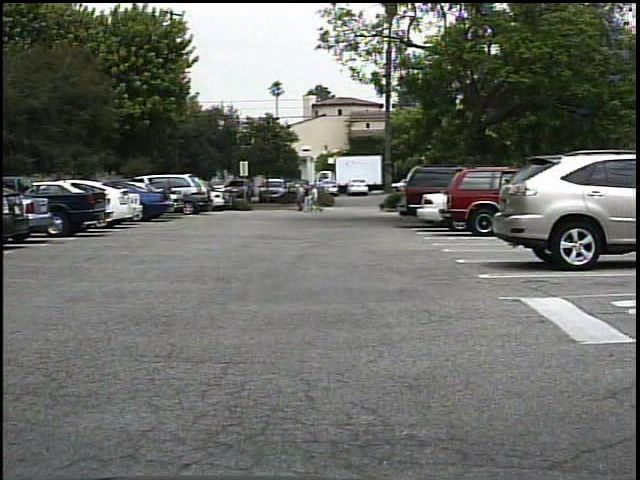person: (306, 184, 326, 215), (292, 185, 307, 215), (303, 186, 316, 217)
